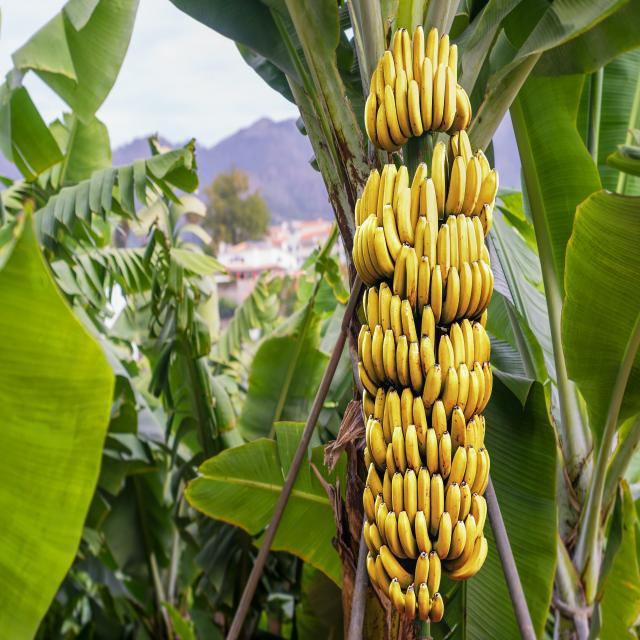banana: (362, 48, 515, 617)
